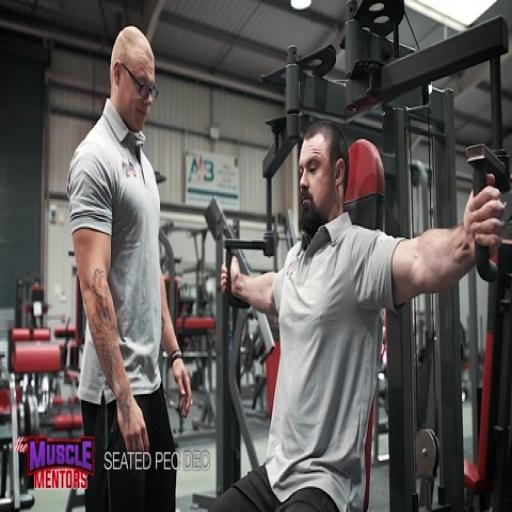exercise: (206, 118, 507, 511), (65, 22, 194, 510)
